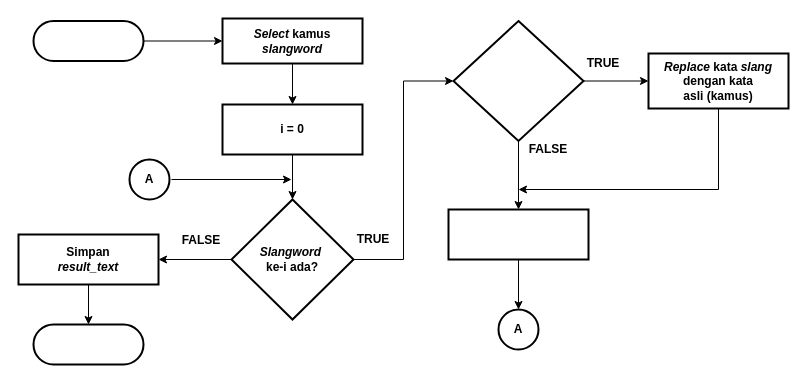
Image size: 806x382. Some labels were removed from this diagram. Here are the shapes that lost their labels. From the top down, the centre of each, then its label:
At point 88,41: "START".
At point 518,81: "result_text mengandung kata slangword ke-i?".
At point 518,234: "i += 1".
At point 88,344: "END".
